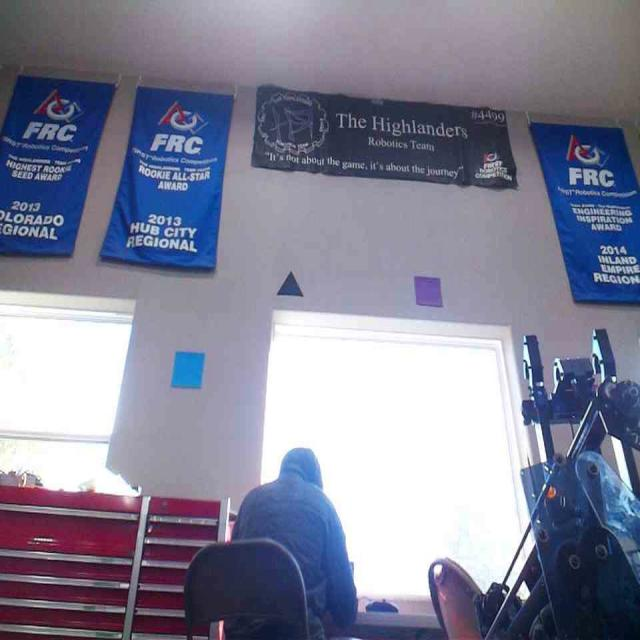square_blue: (172, 351, 206, 387)
square_purple: (413, 274, 443, 305)
triangle_black: (276, 269, 303, 295)
